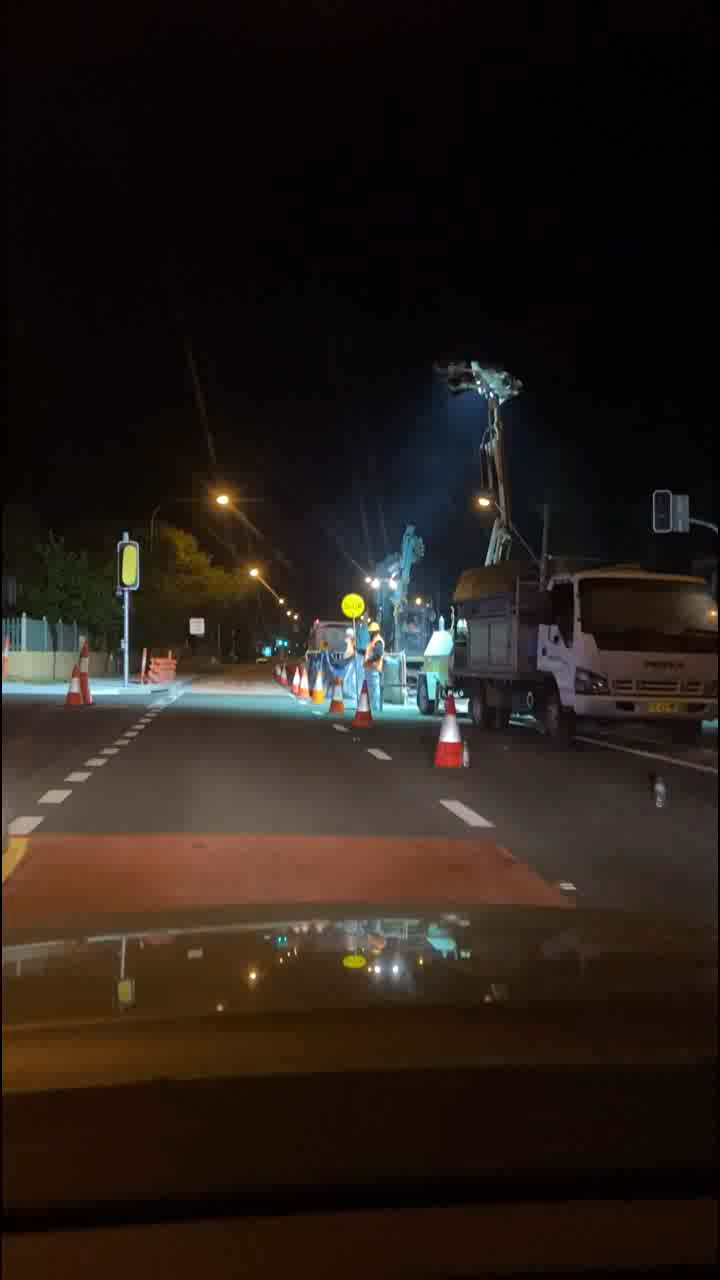person: (343, 596, 391, 729)
road cone: (62, 661, 91, 711), (287, 665, 308, 704)
truck: (419, 350, 720, 763)
